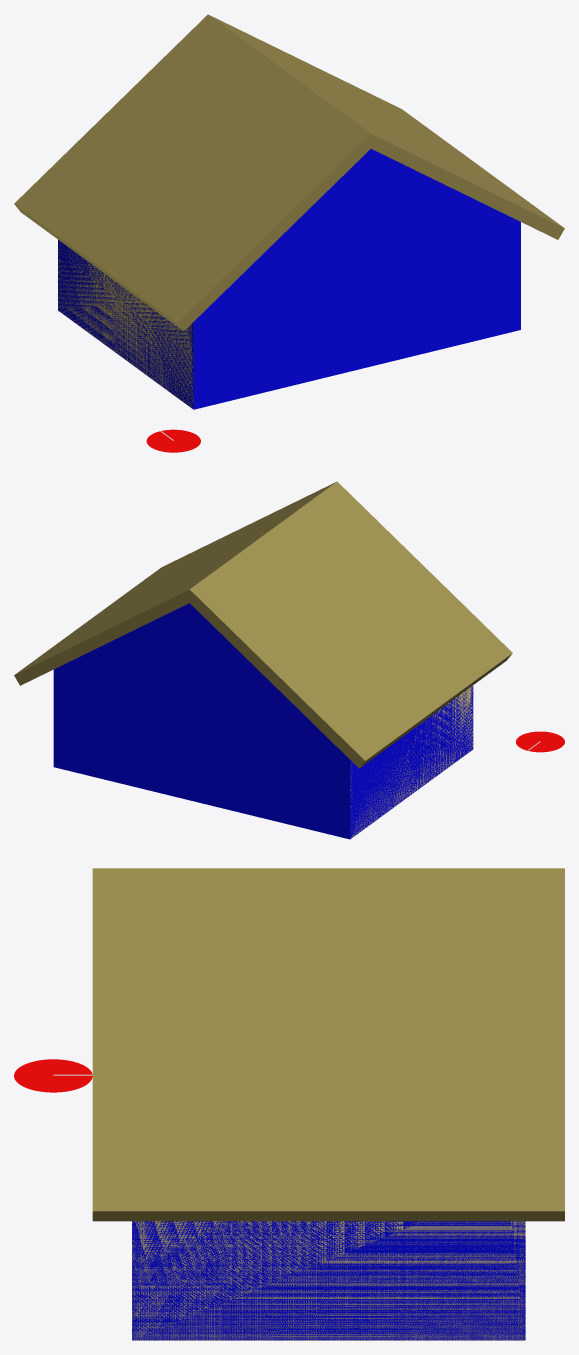
File: result.glb
3 views of the same model, one above another, from view 1: azimuth 30°, elevation 25°; view 2: azimuth 150°, elevation 25°; view 3: azimuth 270°, elevation 25° (orthographic). The views are drawn at different scales.
Visible parts, largest first — view 1: f31333f4-0f98-4d0d-ba21-f9f072d832fd__undefined (×2), c56fde67-eea6-44ad-9735-cfc466b44a96__undefined, 139e75a7-a2ec-462a-a292-1364b9abb474__undefined, 0e9094dc-58e2-4082-9dfb-31f26411fdf0__Circle; view 2: f31333f4-0f98-4d0d-ba21-f9f072d832fd__undefined (×2), c56fde67-eea6-44ad-9735-cfc466b44a96__undefined, 139e75a7-a2ec-462a-a292-1364b9abb474__undefined, 0e9094dc-58e2-4082-9dfb-31f26411fdf0__Circle; view 3: f31333f4-0f98-4d0d-ba21-f9f072d832fd__undefined, c56fde67-eea6-44ad-9735-cfc466b44a96__undefined, 139e75a7-a2ec-462a-a292-1364b9abb474__undefined, 0e9094dc-58e2-4082-9dfb-31f26411fdf0__Circle.
Part boxes in pixels (bbox=[...]): f31333f4-0f98-4d0d-ba21-f9f072d832fd__undefined (×2): bbox=[14, 14, 564, 331]; c56fde67-eea6-44ad-9735-cfc466b44a96__undefined: bbox=[58, 149, 520, 409]; 139e75a7-a2ec-462a-a292-1364b9abb474__undefined: bbox=[58, 242, 193, 409]; 0e9094dc-58e2-4082-9dfb-31f26411fdf0__Circle: bbox=[146, 429, 200, 452]; f31333f4-0f98-4d0d-ba21-f9f072d832fd__undefined (×2): bbox=[14, 481, 512, 768]; c56fde67-eea6-44ad-9735-cfc466b44a96__undefined: bbox=[53, 603, 473, 839]; 139e75a7-a2ec-462a-a292-1364b9abb474__undefined: bbox=[350, 685, 473, 838]; 0e9094dc-58e2-4082-9dfb-31f26411fdf0__Circle: bbox=[516, 731, 564, 752]; f31333f4-0f98-4d0d-ba21-f9f072d832fd__undefined: bbox=[92, 868, 564, 1221]; c56fde67-eea6-44ad-9735-cfc466b44a96__undefined: bbox=[132, 1221, 525, 1340]; 139e75a7-a2ec-462a-a292-1364b9abb474__undefined: bbox=[132, 1221, 525, 1340]; 0e9094dc-58e2-4082-9dfb-31f26411fdf0__Circle: bbox=[14, 1059, 92, 1092].
Size of the model in its own units: 910 by 500 by 700.
